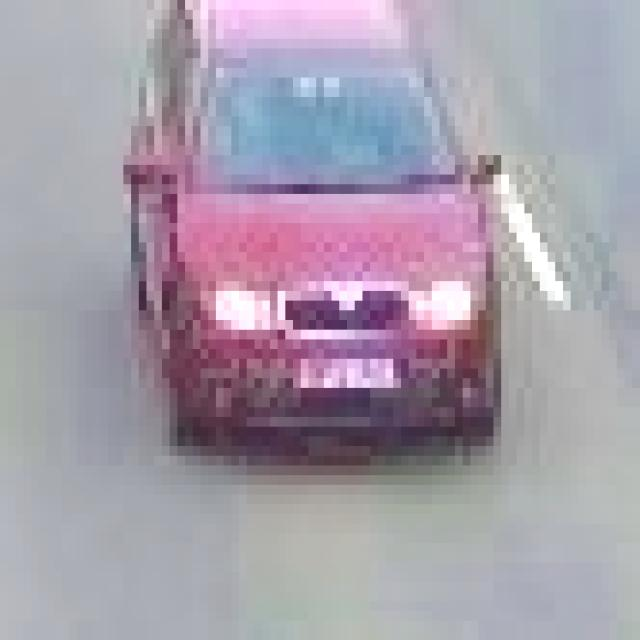maroon: (127, 0, 505, 446)
